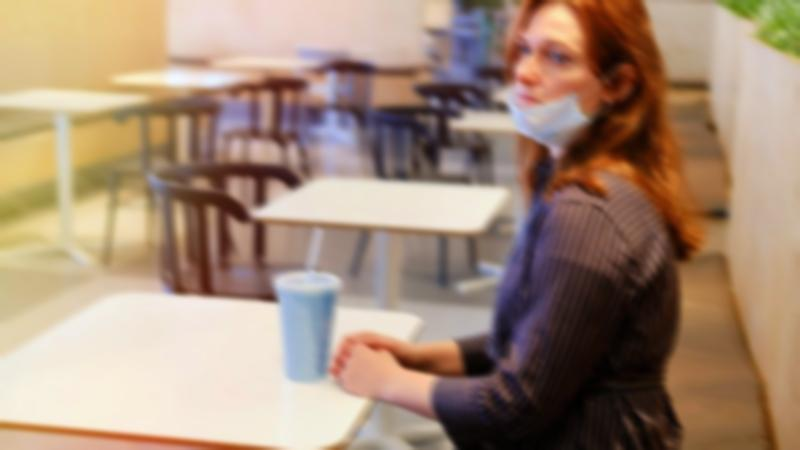mask_weared_incorrect: (507, 1, 660, 148)
